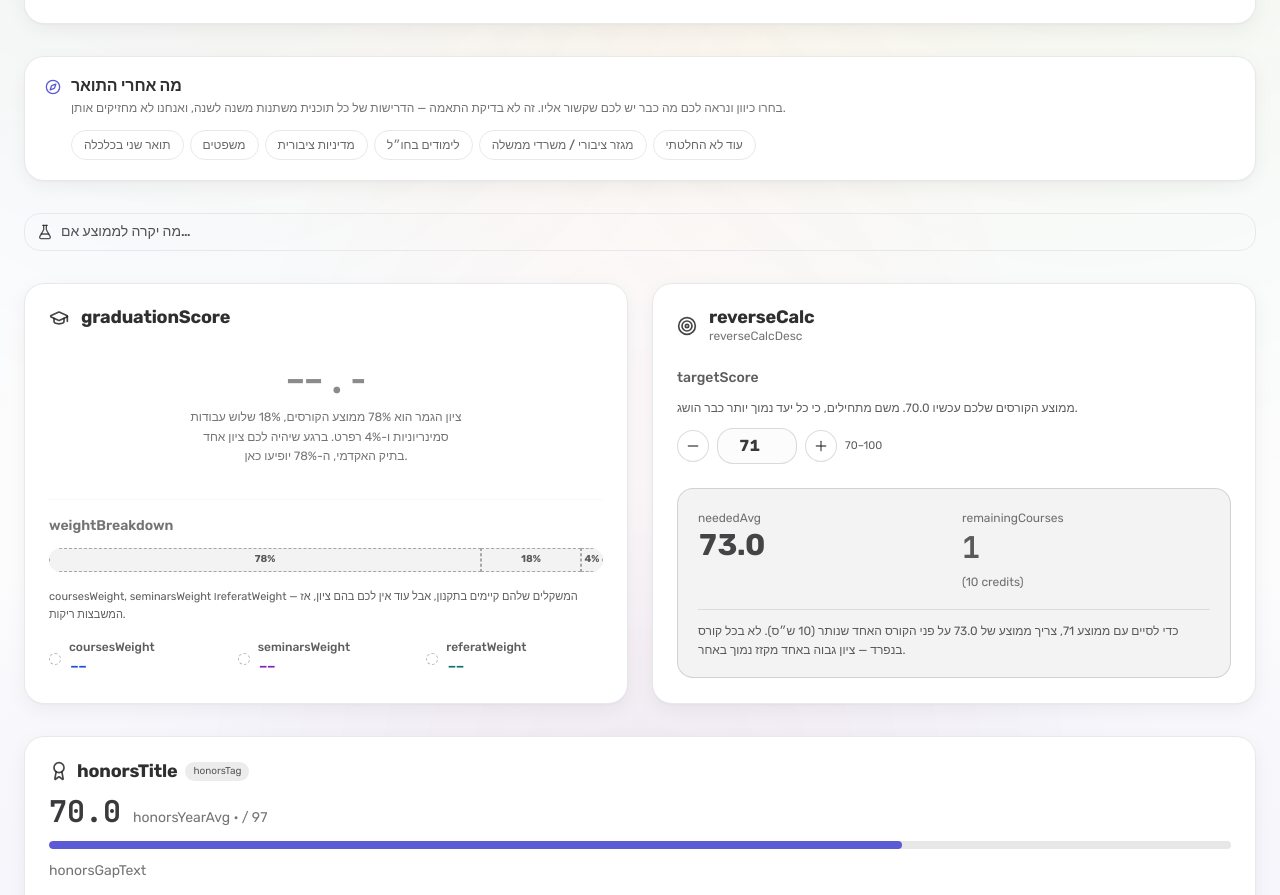
Test: ReverseCalculator honesty guards (#44 QA-8) › guard 1: a retaken passed course counts as earned once and is EXCLUDED from remaining
(page scrolled)
Replace the text in the number field with "80" at (757, 446), box [717,428,797,464]
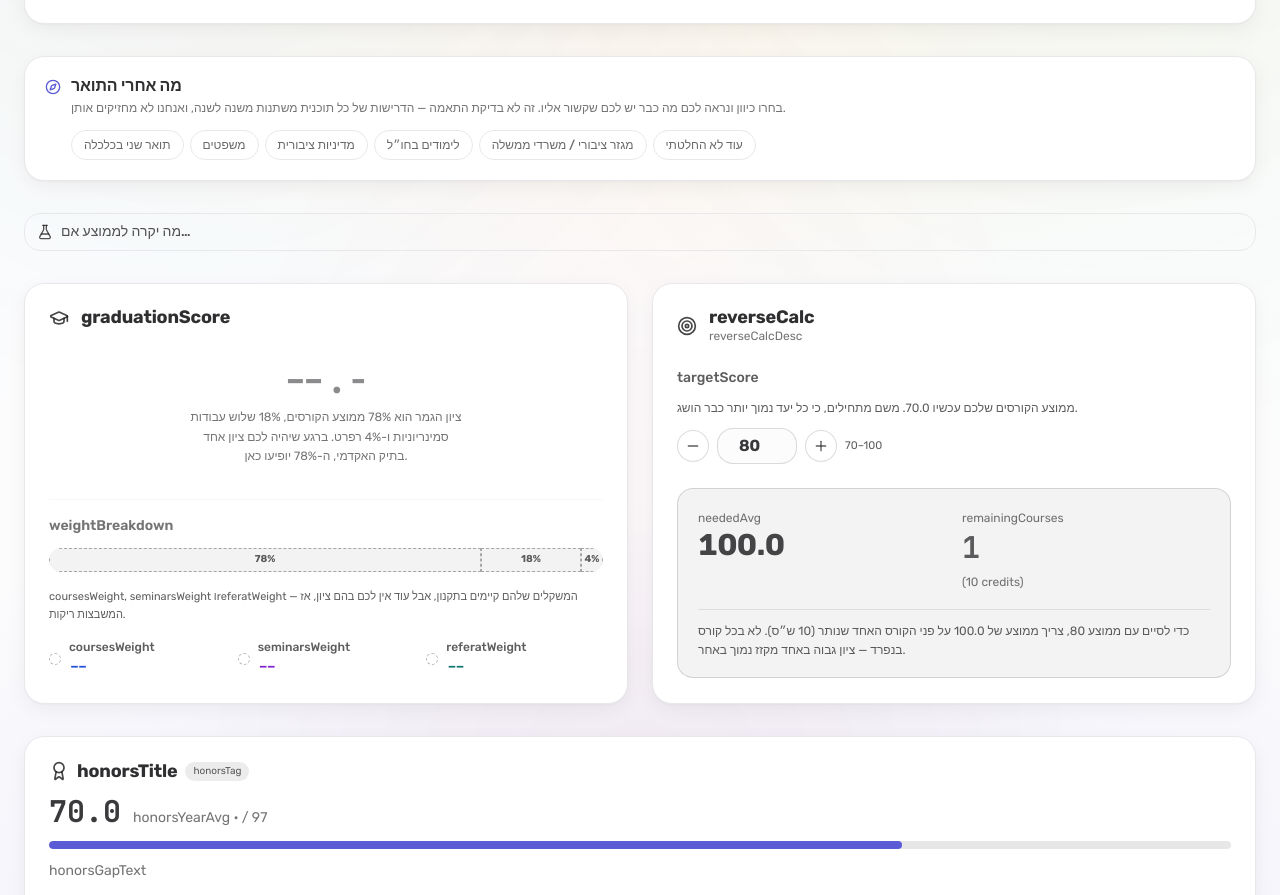
Expected: the text "neededAvg" is shown, [698,511,761,525]
Result: the text "100.0" is shown at [698,527,784,563]
